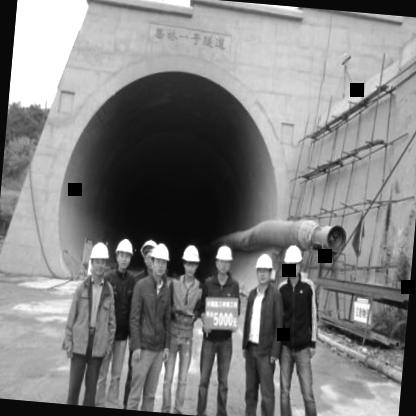helmet: (252, 249, 277, 292), (88, 241, 111, 282), (138, 236, 160, 278), (110, 234, 134, 272), (178, 242, 202, 280), (149, 242, 171, 282), (283, 244, 304, 284), (210, 246, 233, 282)
